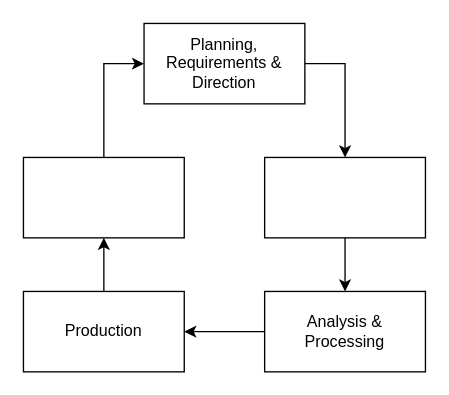
The diagram is 449 pixels wide and 395 high, and some of its shapes have lost their labels. Here are the shapes that lost their labels. From the top down, the box of each, then its label:
(22, 156, 184, 238): Dissemination
(263, 156, 425, 238): Collection
